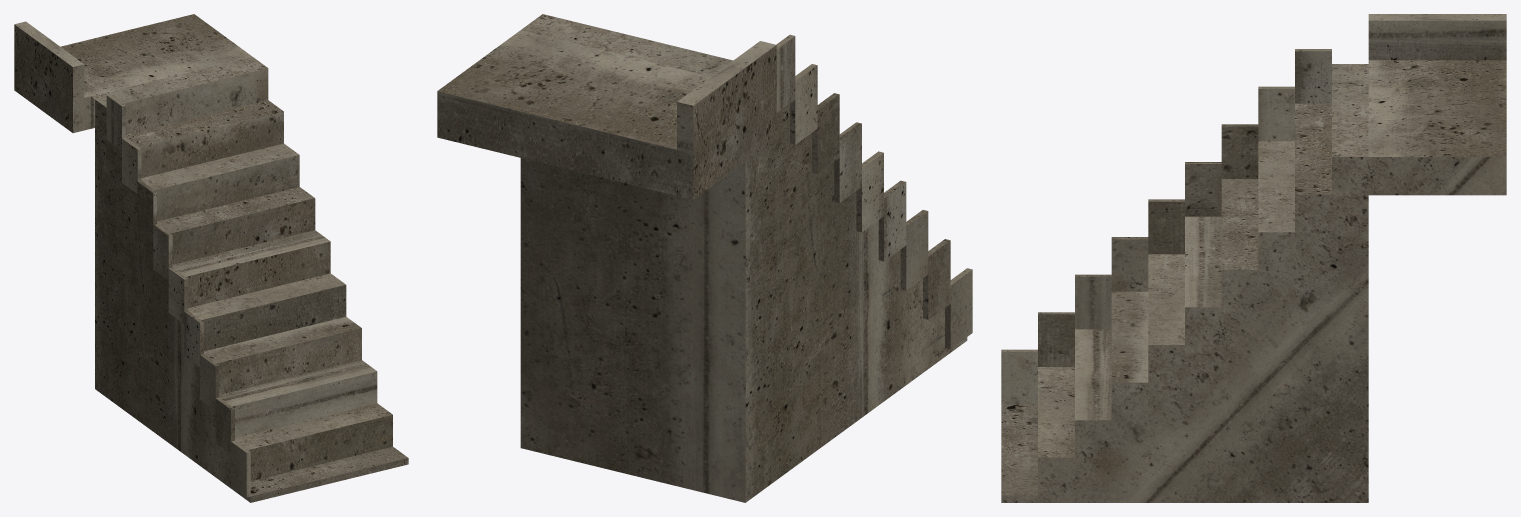
Rendered from Storm Village_Stairs.fbx.
The picture shows the model from 3 angles, left to right: view 1: azimuth 30°, elevation 25°; view 2: azimuth 150°, elevation 25°; view 3: azimuth 270°, elevation 25°; orthographic projection. The views are drawn at different scales.
Parts seen in each view (by area): view 1: Stairs, Stairs.003, Stairs.002; view 2: Stairs, Stairs.002, Stairs.003; view 3: Stairs.003, Stairs, Stairs.002.
Boxes of the visible parts, left/top/right/bottom form: Stairs: left=91, top=76, right=329, bottom=502; Stairs.003: left=174, top=57, right=408, bottom=483; Stairs.002: left=14, top=14, right=252, bottom=132; Stairs: left=633, top=34, right=972, bottom=502; Stairs.002: left=437, top=30, right=776, bottom=199; Stairs.003: left=520, top=14, right=654, bottom=475; Stairs.003: left=1001, top=111, right=1368, bottom=502; Stairs: left=1001, top=49, right=1368, bottom=449; Stairs.002: left=1368, top=14, right=1506, bottom=195.
Size of the model in its own units: 232 by 404 by 480.
